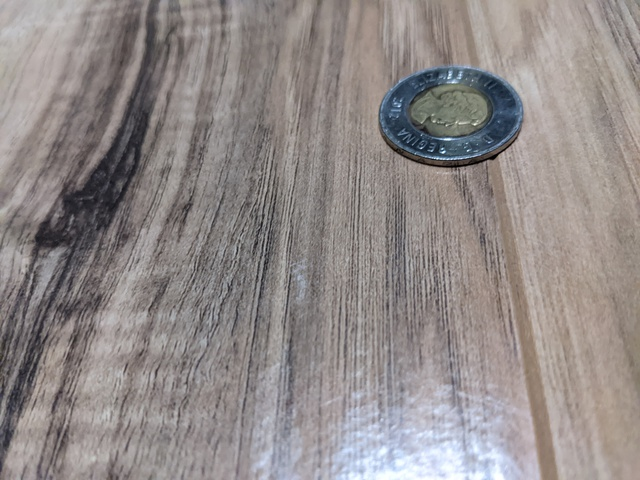twonie: (355, 66, 539, 175)
